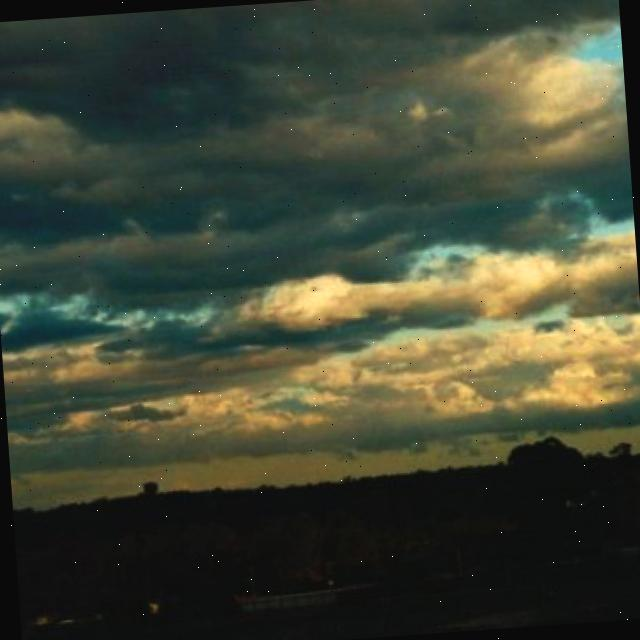St: (1, 1, 640, 429)
